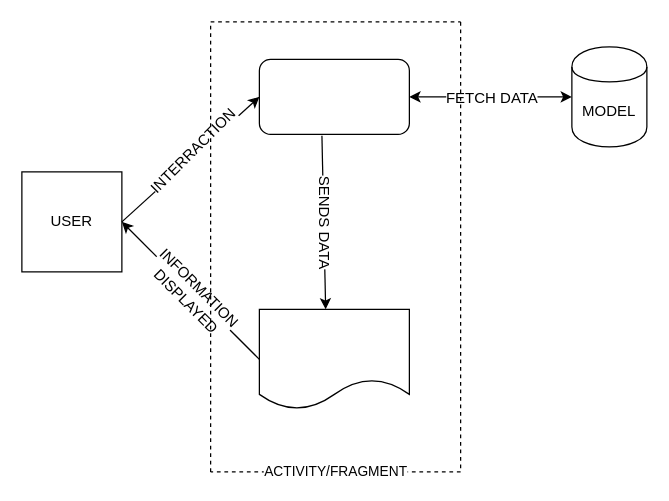
Image size: 669x501. Some labels were removed from this diagram. The shapes that lost their labels are listed below. From the top down, each one's centre as x and y in pixels, then its label:
At point 333,96: "CONTROLLER".
At point 333,358: "VIEW".
